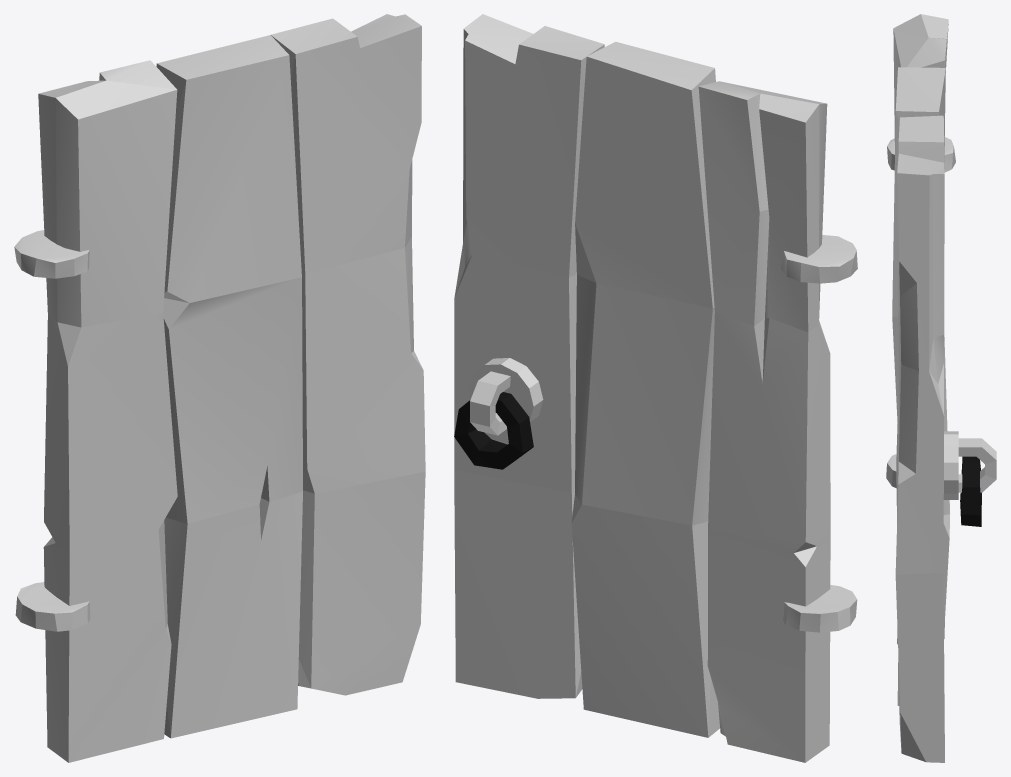
Rendered from NGF_Env_Door_11.fbx.
The picture shows the model from 3 angles, left to right: view 1: azimuth 30°, elevation 25°; view 2: azimuth 150°, elevation 25°; view 3: azimuth 270°, elevation 25°; orthographic projection. The views are drawn at different scales.
Visible parts, largest first — view 1: NGF_Env_Door_11, NGF_Env_Hinges_24; view 2: NGF_Env_Door_11, NGF_Env_Hinges_24, NGF_Env_Handle_attachment_11, NGF_Env_Handle_11; view 3: NGF_Env_Door_11, NGF_Env_Handle_attachment_11, NGF_Env_Handle_11, NGF_Env_Hinges_24.
Part boxes in pixels (x1,y1,x2,y2): NGF_Env_Door_11: (38,14,425,762); NGF_Env_Hinges_24: (14,230,90,631); NGF_Env_Door_11: (454,14,830,762); NGF_Env_Hinges_24: (781,235,857,632); NGF_Env_Handle_attachment_11: (468,358,543,435); NGF_Env_Handle_11: (454,392,533,469); NGF_Env_Door_11: (892,14,949,762); NGF_Env_Handle_attachment_11: (943,431,996,499); NGF_Env_Handle_11: (960,456,981,526); NGF_Env_Hinges_24: (886,137,955,488).
Bounding box in the file's own units: 1.53 × 2.48 × 0.418.
1 material, 1 textured.
